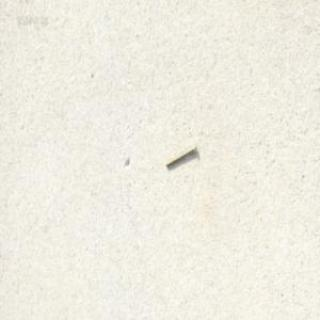Bolttrack_idkeyframe: (163, 142, 196, 167)
